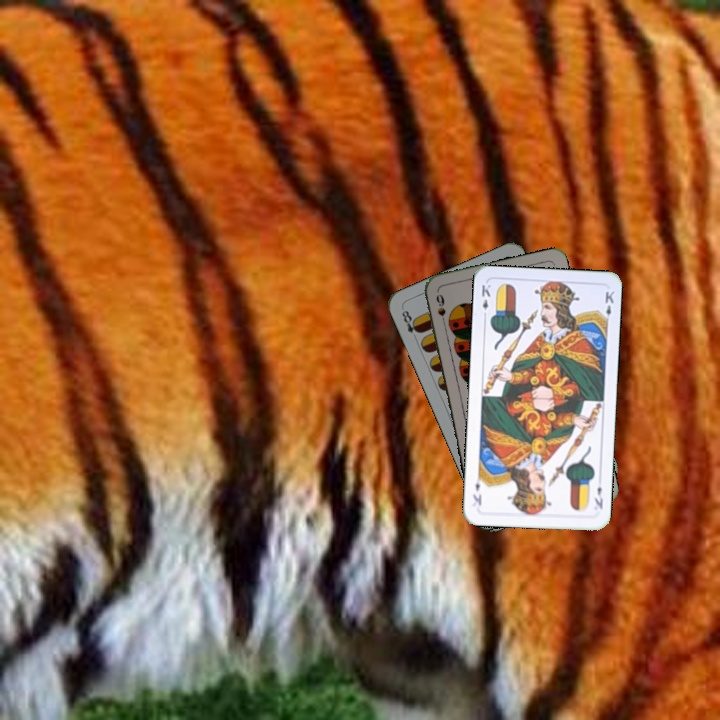E8: (398, 306, 423, 343)
EK: (477, 280, 493, 321), (590, 482, 606, 511)
S9: (432, 290, 448, 329)
